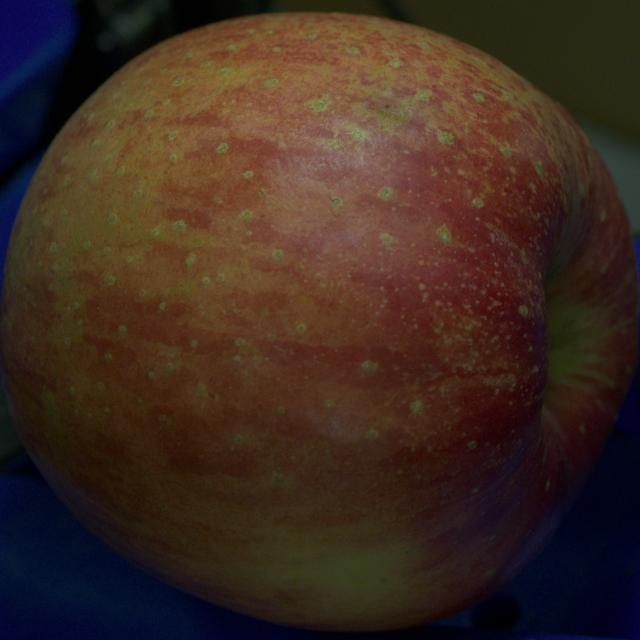apple: (0, 13, 638, 631)
